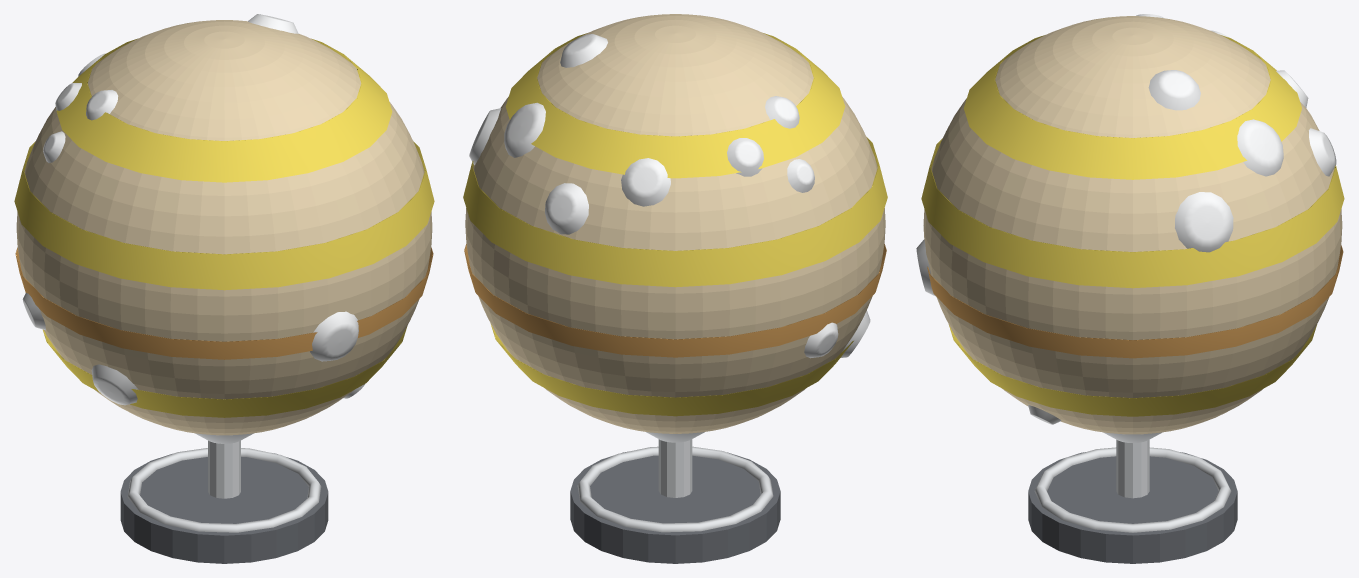
The model's file is solar-system-and-astronauts-venus-model-b457c143__39233.glb.
3 renders of one model, left to right at view 1: azimuth 30°, elevation 25°; view 2: azimuth 150°, elevation 25°; view 3: azimuth 270°, elevation 25°, orthographic.
Parts seen in each view (by area): view 1: venus-model; view 2: venus-model; view 3: venus-model.
Boxes of the visible parts, x1,y1,x2,y2 form: venus-model: (14,14,434,563); venus-model: (463,14,887,563); venus-model: (916,14,1344,563).
Bounding box in the file's own units: 0.4041 × 0.5103 × 0.4088.
